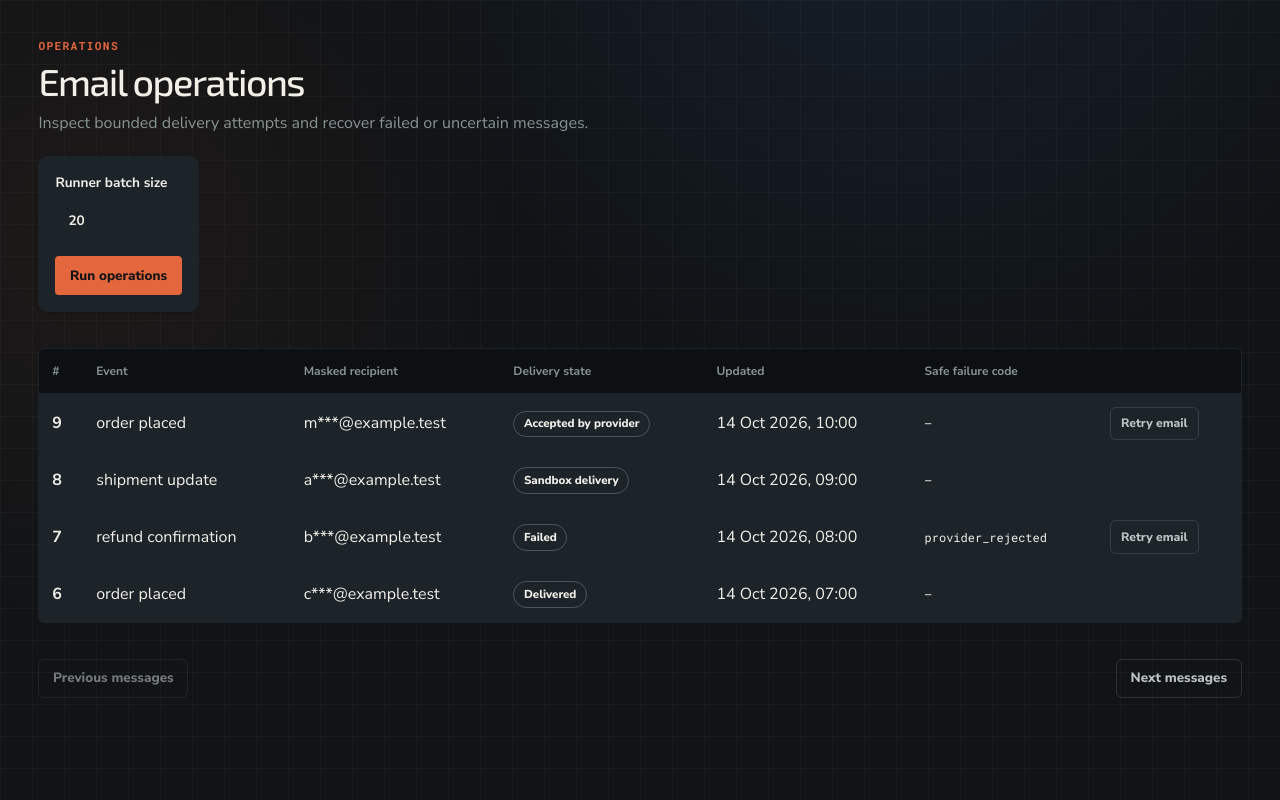
Test: AdminEmailOperationsPage › clamps the runner batch to its server bound
Expected: the text "Accepted by provider" is shown, x1=513 y1=410 x2=650 y2=437
Replace the text in the number field labelled "Runner batch size" with "500" at (118,222), box x1=55 y1=200 x2=182 y2=243
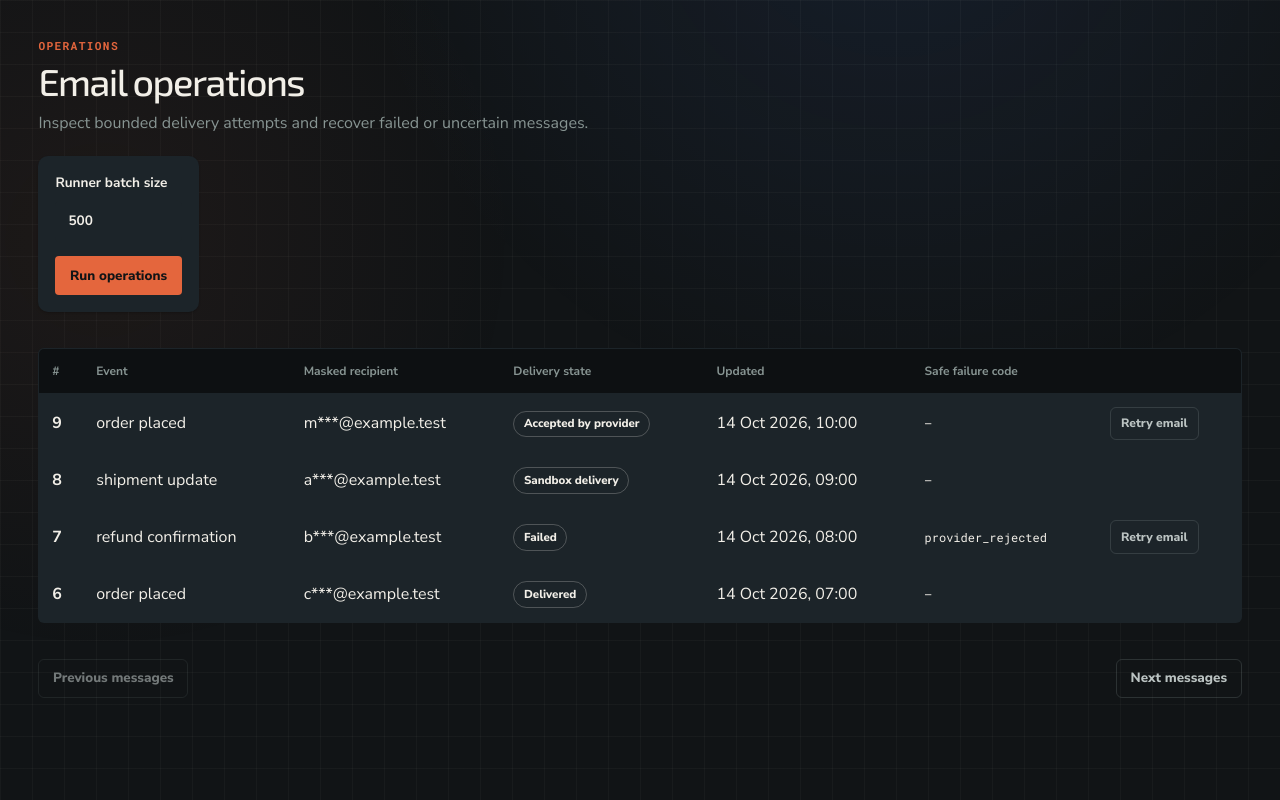
Click the button "Run operations" at (118,276), box x1=55 y1=256 x2=182 y2=295
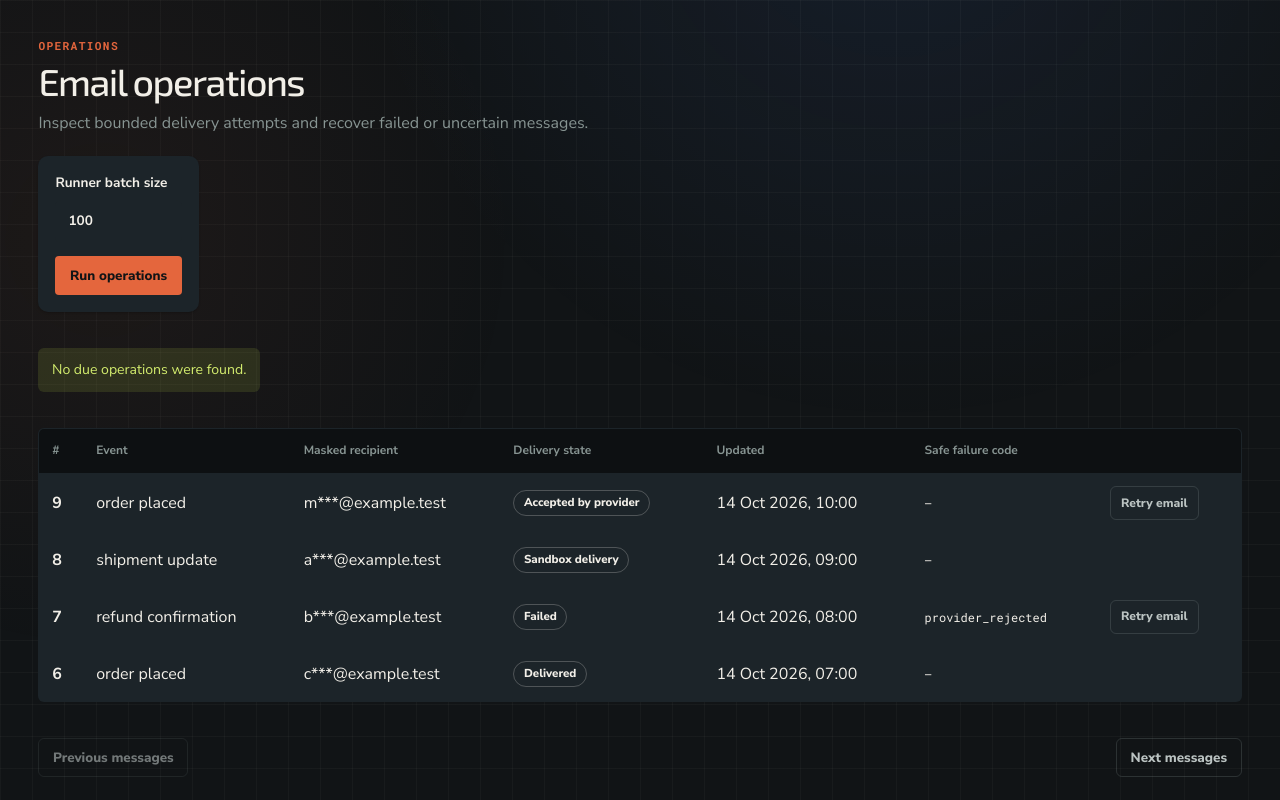
Result: the message reads "No due operations were found." at x1=52 y1=360 x2=246 y2=379
